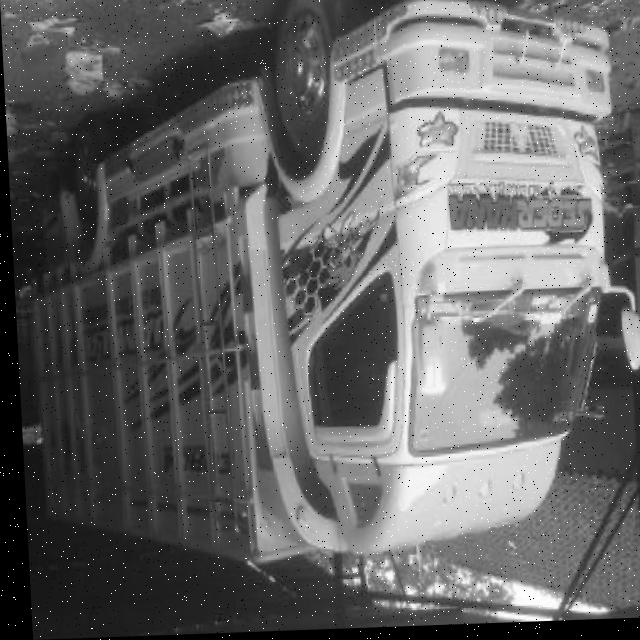truck: (237, 1, 640, 569)
